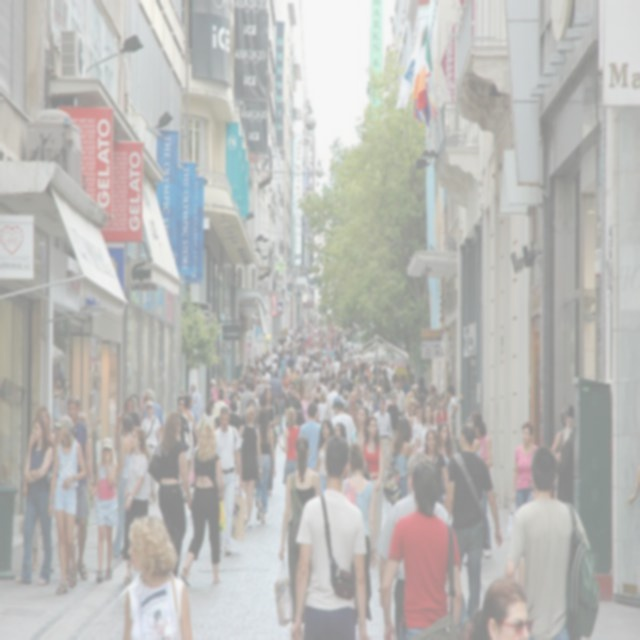pessoa: (206, 306, 405, 406), (503, 444, 602, 638), (288, 432, 372, 638), (378, 460, 466, 638), (444, 422, 504, 629), (121, 514, 196, 638), (277, 434, 322, 628), (46, 414, 90, 597), (178, 421, 225, 589), (338, 442, 378, 626), (15, 412, 56, 588), (154, 408, 194, 581), (64, 393, 95, 582), (458, 570, 536, 638), (86, 432, 120, 584), (212, 404, 245, 558), (456, 410, 494, 540), (122, 426, 150, 586), (30, 404, 56, 574), (404, 369, 461, 436), (236, 403, 264, 533), (470, 418, 495, 560), (111, 412, 135, 558), (254, 408, 278, 526), (138, 398, 164, 506), (387, 416, 415, 509), (511, 419, 539, 509), (551, 400, 575, 504), (418, 428, 449, 506), (216, 403, 302, 429), (371, 395, 394, 488), (360, 414, 386, 492), (312, 416, 337, 496), (280, 405, 302, 488), (298, 402, 324, 472), (409, 403, 438, 458), (258, 384, 281, 453), (434, 422, 453, 502), (329, 396, 358, 446), (193, 395, 220, 440), (431, 394, 454, 444), (445, 380, 460, 454), (138, 387, 164, 429), (182, 392, 195, 475), (282, 379, 304, 427), (175, 395, 192, 448), (118, 395, 142, 427), (385, 392, 400, 438), (189, 382, 205, 424), (355, 404, 371, 446), (212, 387, 232, 419), (392, 376, 406, 421), (227, 400, 243, 432), (239, 398, 256, 426), (128, 411, 142, 432), (332, 419, 347, 438), (130, 392, 142, 414)
